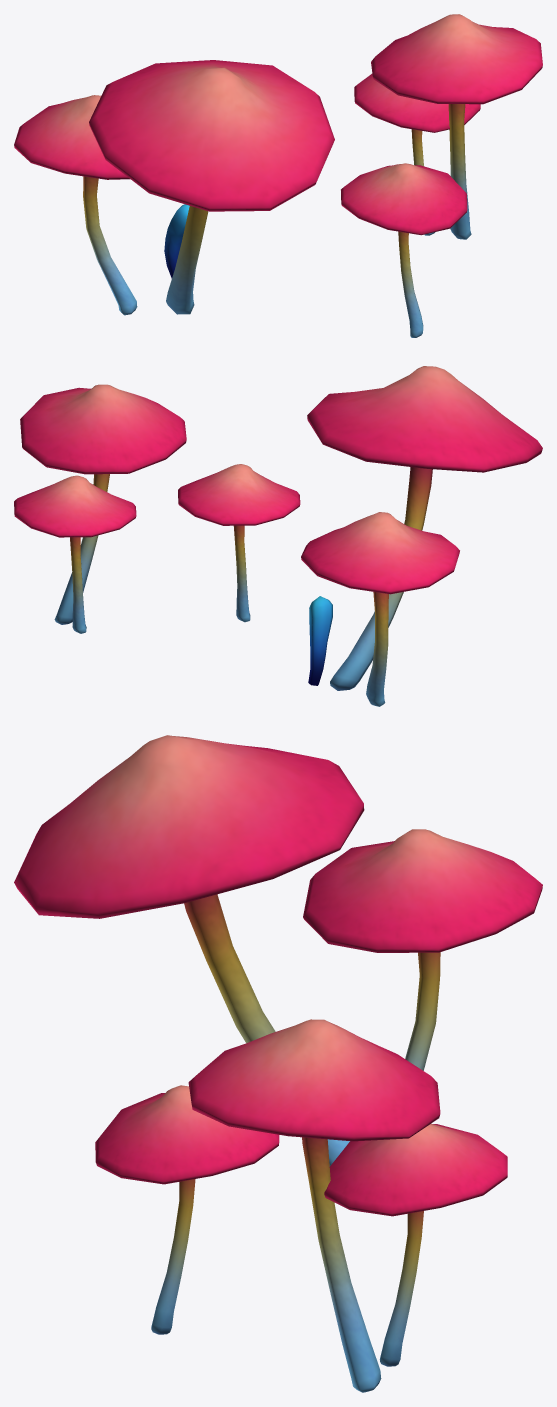
File: Cartoon Seaweed_13-2-36.fbx
The picture shows the model from 3 angles, top to bottom: view 1: azimuth 30°, elevation 25°; view 2: azimuth 150°, elevation 25°; view 3: azimuth 270°, elevation 25°; orthographic projection. The views are drawn at different scales.
Parts seen in each view (by area): view 1: Cartoon Seaweed_13.2.36; view 2: Cartoon Seaweed_13.2.36; view 3: Cartoon Seaweed_13.2.36.
Boxes of the visible parts, x1,y1,x2,y2 form: Cartoon Seaweed_13.2.36: [14, 14, 542, 337]; Cartoon Seaweed_13.2.36: [14, 366, 542, 706]; Cartoon Seaweed_13.2.36: [14, 735, 542, 1392].
Bounding box in the file's own units: 18.69 × 11.84 × 12.46.
1 material, 1 textured.
